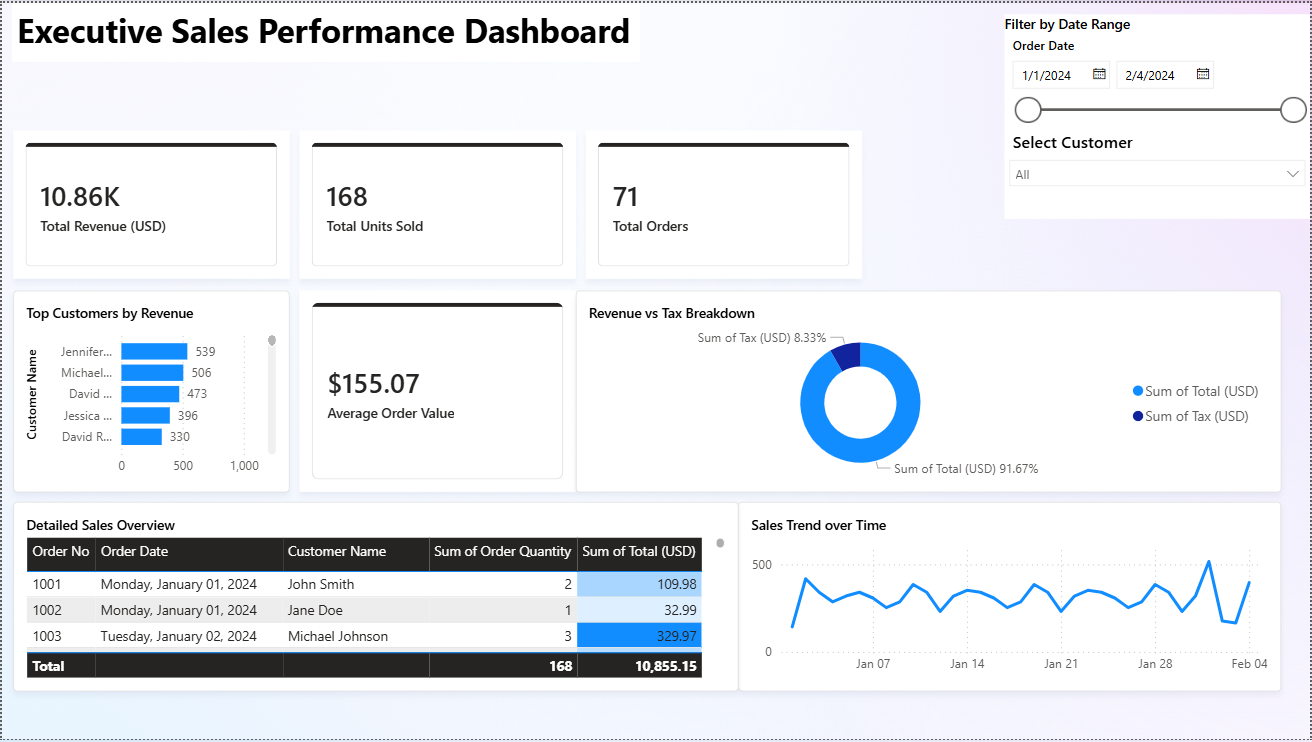

The dashboard page shown, as its layout file describes it:
{"tool":"powerbi","page":{"name":"Page 1","canvas":[1280,720],"ordinal":0},"visuals":[{"type":"cardVisual","fields":{"Data":["Sum(SuperMarket Sales.Total (USD))"]},"box":[11,124.9,270.3,145.5],"z":0},{"type":"cardVisual","fields":{"Data":["Sum(SuperMarket Sales.Order Quantity)"]},"box":[290.9,124.9,270.3,145.5],"z":1000},{"type":"cardVisual","fields":{"Data":["Count(SuperMarket Sales.Order No)"]},"box":[570.8,124.9,270.3,145.5],"z":2000},{"type":"lineChart","title":"Sales Trend over Time","fields":{"Category":["SuperMarket Sales.Order Date.Variation.Date Hierarchy.Year"],"Y":["Sum(SuperMarket Sales.Total (USD))"]},"box":[720.4,488.5,531,185.2],"z":3000},{"type":"clusteredBarChart","title":"Top Customers by Revenue","fields":{"Category":["SuperMarket Sales.Customer Name"],"Y":["Sum(SuperMarket Sales.Total (USD))"]},"box":[11,281.3,270.3,197.6],"z":4000},{"type":"slicer","title":"Filter by Date Range","fields":{"Values":["SuperMarket Sales.Order Date"]},"box":[981.1,11,299.1,113.9],"z":4001},{"type":"textbox","box":[9.6,0,614.8,57.6],"z":4002},{"type":"cardVisual","fields":{"Data":["SuperMarket Sales.AOV"]},"box":[290.9,281.3,270.3,197.6],"z":4003},{"type":"slicer","fields":{"Values":["SuperMarket Sales.Customer Name"]},"box":[981.1,124.9,299.1,86.4],"z":4004},{"type":"tableEx","title":"Detailed Sales Overview","fields":{"Values":["SuperMarket Sales.Order No","SuperMarket Sales.Order Date","SuperMarket Sales.Customer Name","Sum(SuperMarket Sales.Order Quantity)","Sum(SuperMarket Sales.Total (USD))"]},"box":[11,488.5,709.4,185.2],"z":4005},{"type":"donutChart","title":"Revenue vs Tax Breakdown","fields":{"Y":["Sum(SuperMarket Sales.Total (USD))","Sum(SuperMarket Sales.Tax (USD))"]},"box":[561.2,281.3,690.2,197.6],"z":4006}]}

Visuals, with their boxes in screenshot pixels (x1, y1, x2, y2), scaled from the page's 1280x720 canvas onto the 1312x742 screenshot:
cardVisual - Sum(SuperMarket Sales.Total (USD)): x1=11 y1=129 x2=288 y2=279
cardVisual - Sum(SuperMarket Sales.Order Quantity): x1=298 y1=129 x2=575 y2=279
cardVisual - Count(SuperMarket Sales.Order No): x1=585 y1=129 x2=862 y2=279
"Sales Trend over Time" lineChart: x1=738 y1=503 x2=1283 y2=694
"Top Customers by Revenue" clusteredBarChart: x1=11 y1=290 x2=288 y2=494
"Filter by Date Range" slicer: x1=1006 y1=11 x2=1311 y2=129
textbox: x1=10 y1=0 x2=640 y2=59
cardVisual - SuperMarket Sales.AOV: x1=298 y1=290 x2=575 y2=494
slicer - SuperMarket Sales.Customer Name: x1=1006 y1=129 x2=1311 y2=218
"Detailed Sales Overview" tableEx: x1=11 y1=503 x2=738 y2=694
"Revenue vs Tax Breakdown" donutChart: x1=575 y1=290 x2=1283 y2=494
